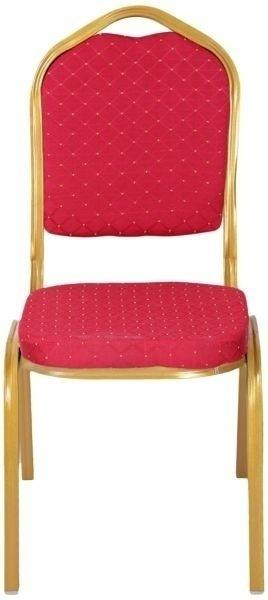chair: (7, 19, 268, 600)
